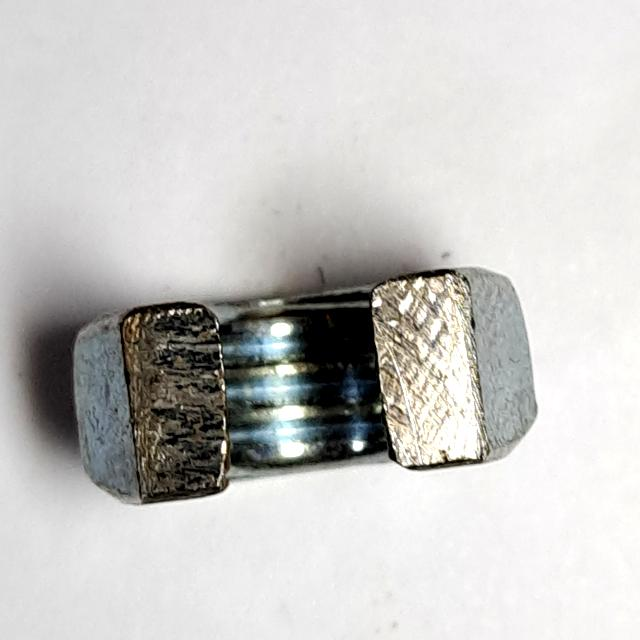Side-Fracture: (59, 252, 552, 522)
